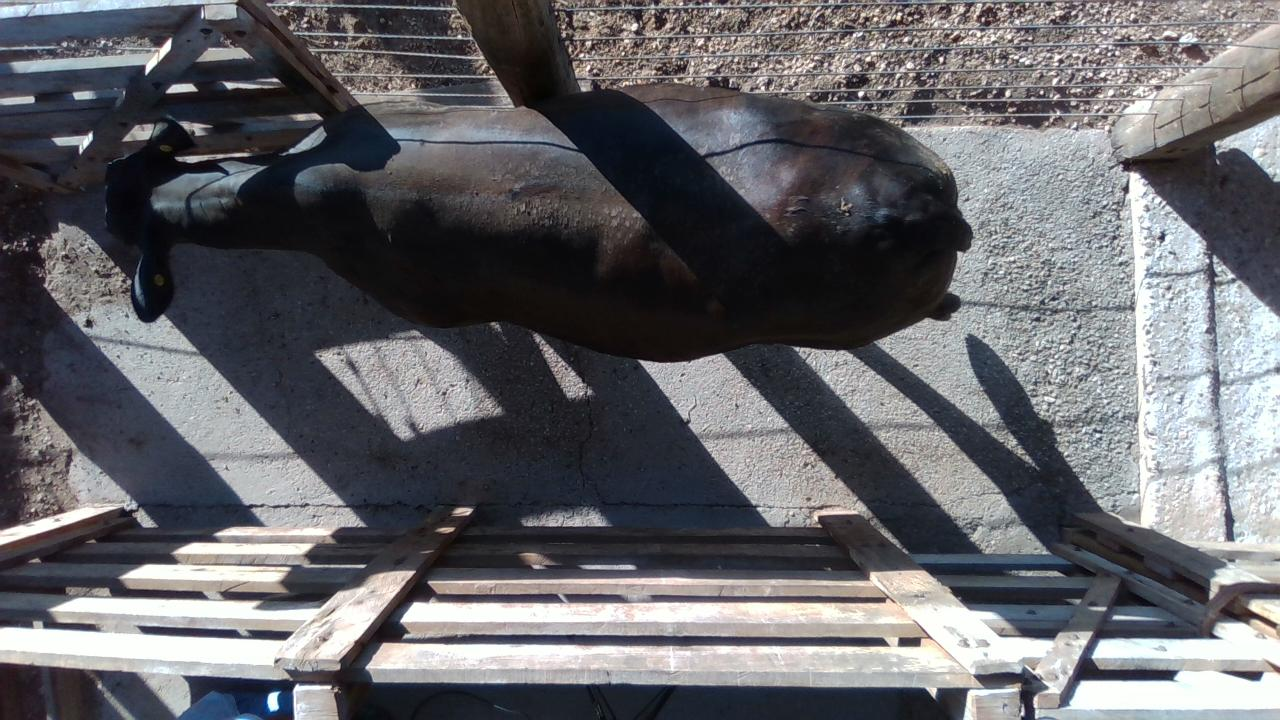cattle: (101, 80, 973, 362)
